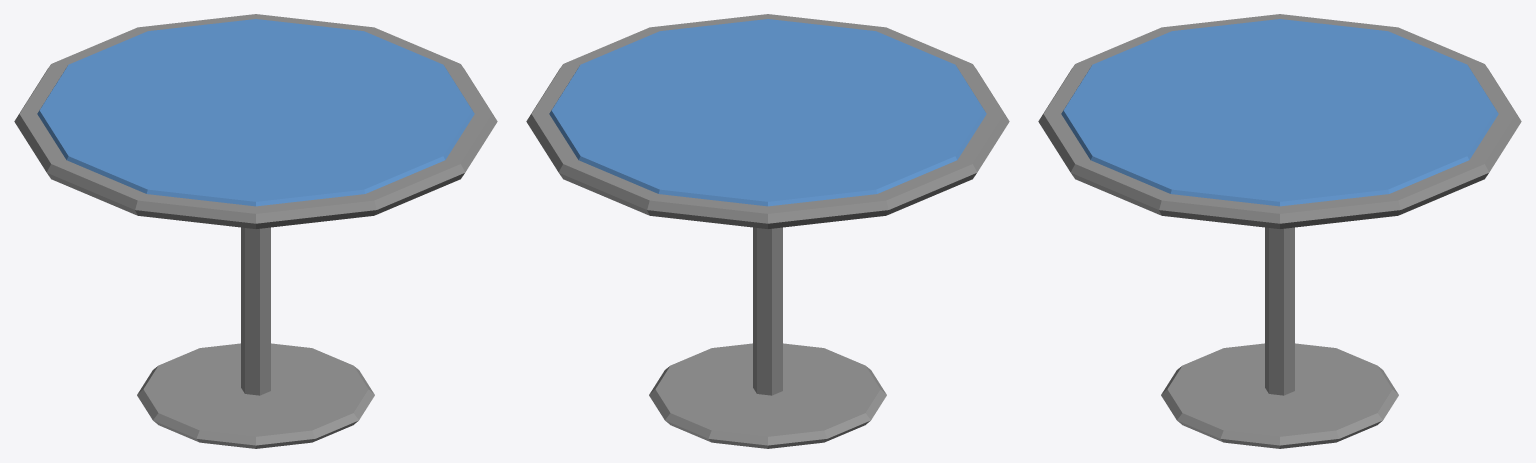
Rendered from Int_Table06_3.fbx.
3 renders of one model, left to right at view 1: azimuth 30°, elevation 25°; view 2: azimuth 150°, elevation 25°; view 3: azimuth 270°, elevation 25°, orthographic.
Visible parts, largest first — view 1: Int_Table06_3; view 2: Int_Table06_3; view 3: Int_Table06_3.
Part boxes in pixels (<box>): Int_Table06_3: <box>14,14,497,448</box>; Int_Table06_3: <box>526,14,1009,448</box>; Int_Table06_3: <box>1038,14,1521,448</box>.
Size of what is drawn, in the model's own units: 105 by 105 by 69.96.
